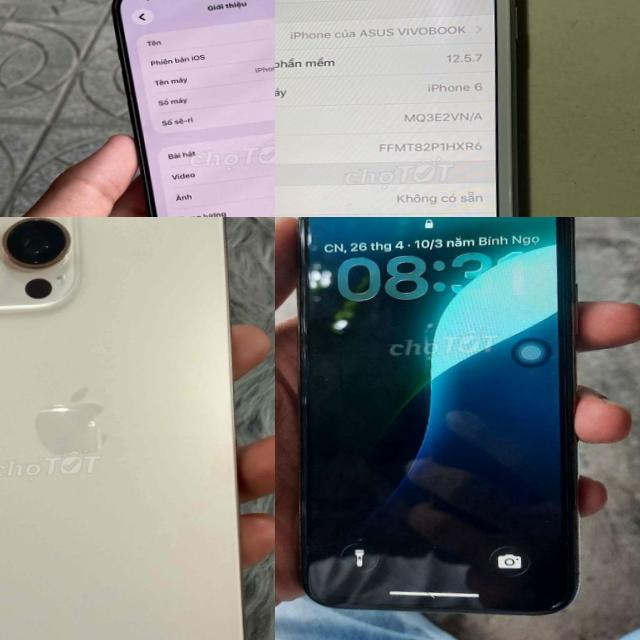gen_11: (275, 217, 592, 623)
gen_14: (106, 0, 275, 217)
gen_16: (0, 217, 243, 640)
gen_6: (275, 0, 548, 217)
scratch: (287, 310, 311, 358), (288, 486, 312, 520), (540, 594, 568, 612), (294, 387, 309, 408)
